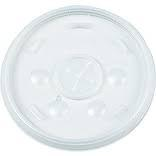Liquid: (4, 6, 156, 156)
